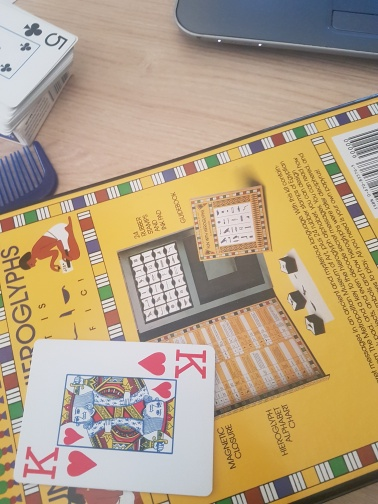king: (12, 338, 216, 497)
